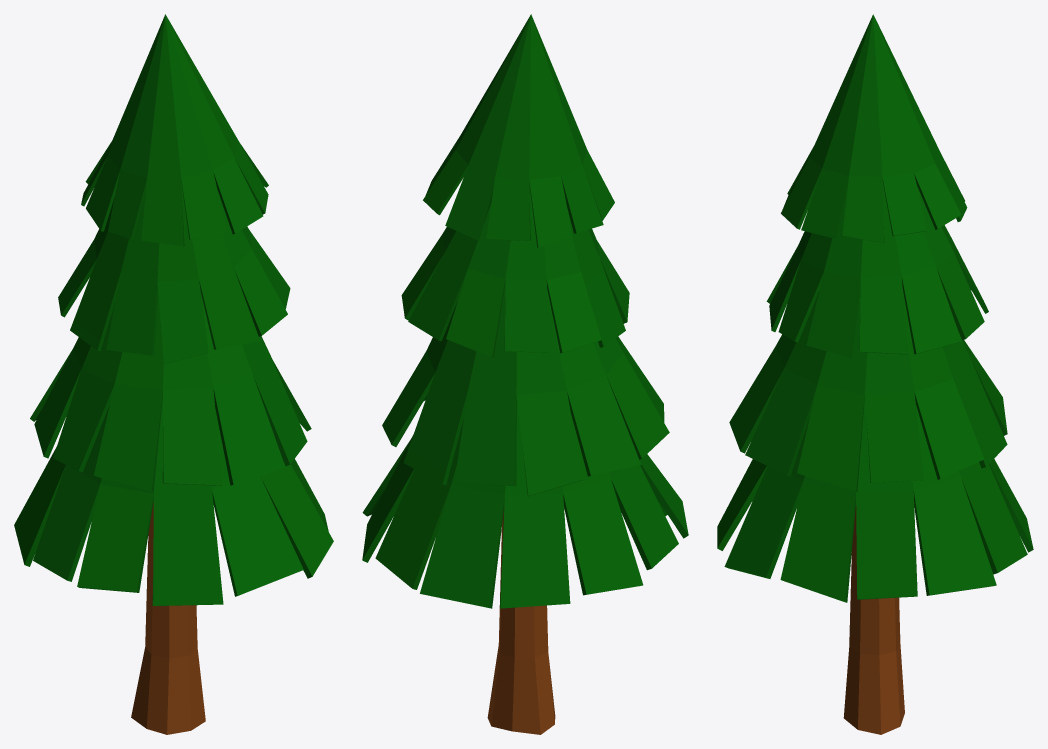
Rendered from pino.obj.
3 renders of one model, left to right at view 1: azimuth 30°, elevation 25°; view 2: azimuth 150°, elevation 25°; view 3: azimuth 270°, elevation 25°, orthographic.
Parts seen in each view (by area): view 1: NaturePack_Tree2, troncoPino; view 2: NaturePack_Tree2, troncoPino; view 3: NaturePack_Tree2, troncoPino.
Boxes of the visible parts, x1,y1,x2,y2 form: NaturePack_Tree2: (14,14,333,605); troncoPino: (131,502,205,734); NaturePack_Tree2: (362,14,688,608); troncoPino: (487,508,555,734); NaturePack_Tree2: (717,14,1033,602); troncoPino: (843,505,904,734).
Bounding box in the file's own units: 6.55 × 16.29 × 6.65.
2 materials, 2 textured.
